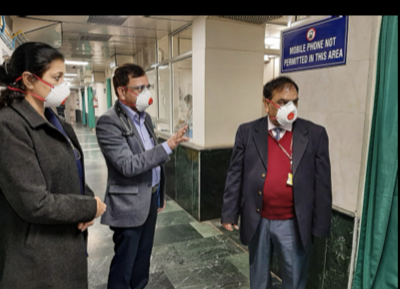with_mask: (36, 68, 70, 108), (269, 94, 299, 126), (126, 81, 153, 111)
